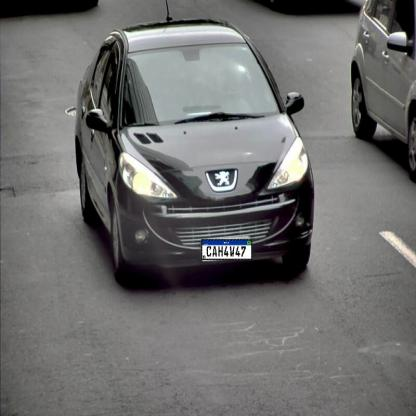PlacaM: (201, 239, 252, 260)
